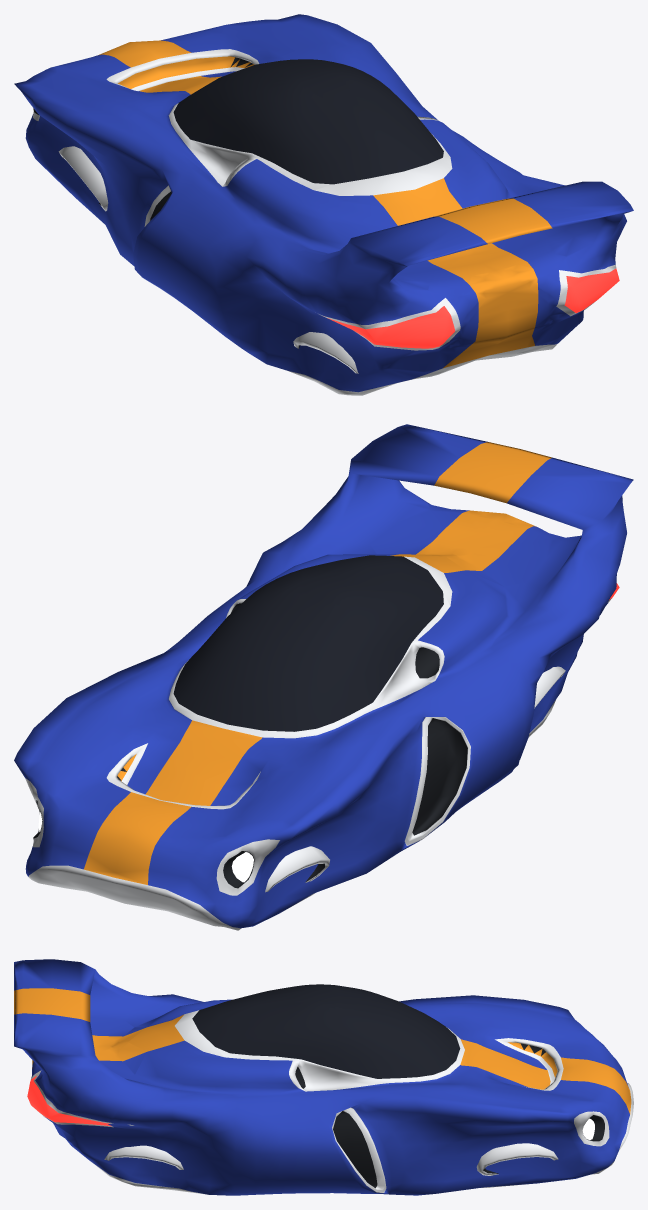
The model's file is r1-blade.glb.
3 renders of one model, top to bottom at view 1: azimuth 30°, elevation 25°; view 2: azimuth 150°, elevation 25°; view 3: azimuth 270°, elevation 25°, orthographic. The views are drawn at different scales.
Parts seen in each view (by area): view 1: Body.001, Canopy, Sockets; view 2: Body.001, Canopy, Sockets; view 3: Body.001, Canopy, Sockets.
Boxes of the visible parts, x1,y1,x2,y2 form: Body.001: (14, 14, 633, 395); Canopy: (173, 59, 443, 184); Sockets: (58, 146, 358, 373); Body.001: (14, 424, 633, 930); Canopy: (173, 555, 443, 731); Sockets: (265, 666, 565, 892); Body.001: (14, 959, 633, 1195); Canopy: (192, 984, 460, 1078); Sockets: (104, 1143, 558, 1175).
Bounding box in the file's own units: 1.89 × 1.13 × 4.01.
